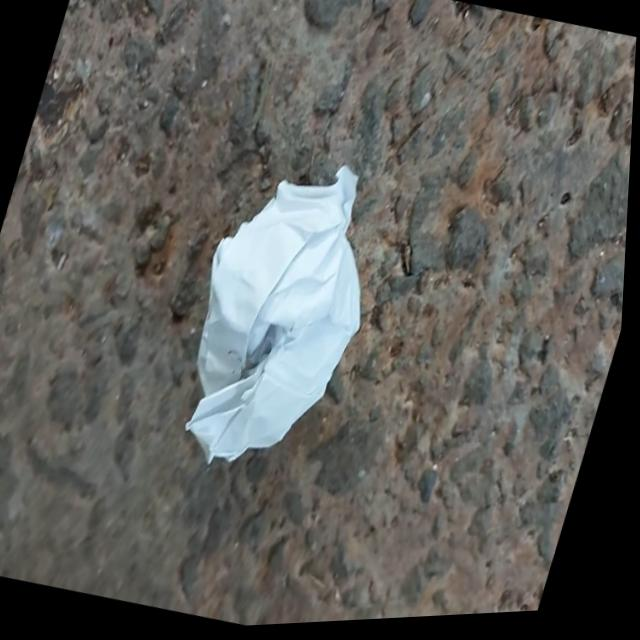paper: (187, 167, 359, 460)
